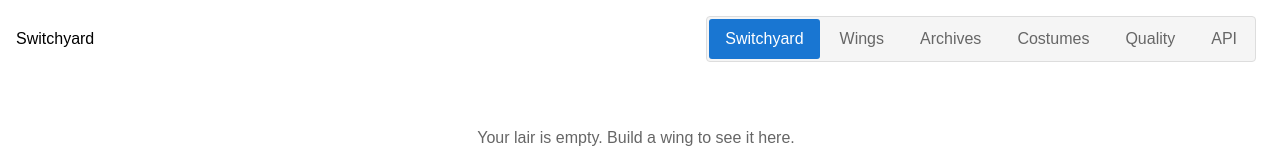
LairOverview › displays "Lair Wings" heading when wings tab is active
The image size is (1273, 163).
Click the button "Wings" at [862, 39], box left=824, top=19, right=900, bottom=59
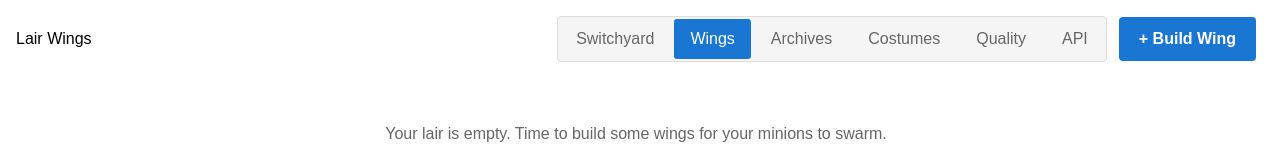
expect the heading "Lair Wings" is shown: met, box left=16, top=27, right=92, bottom=51
